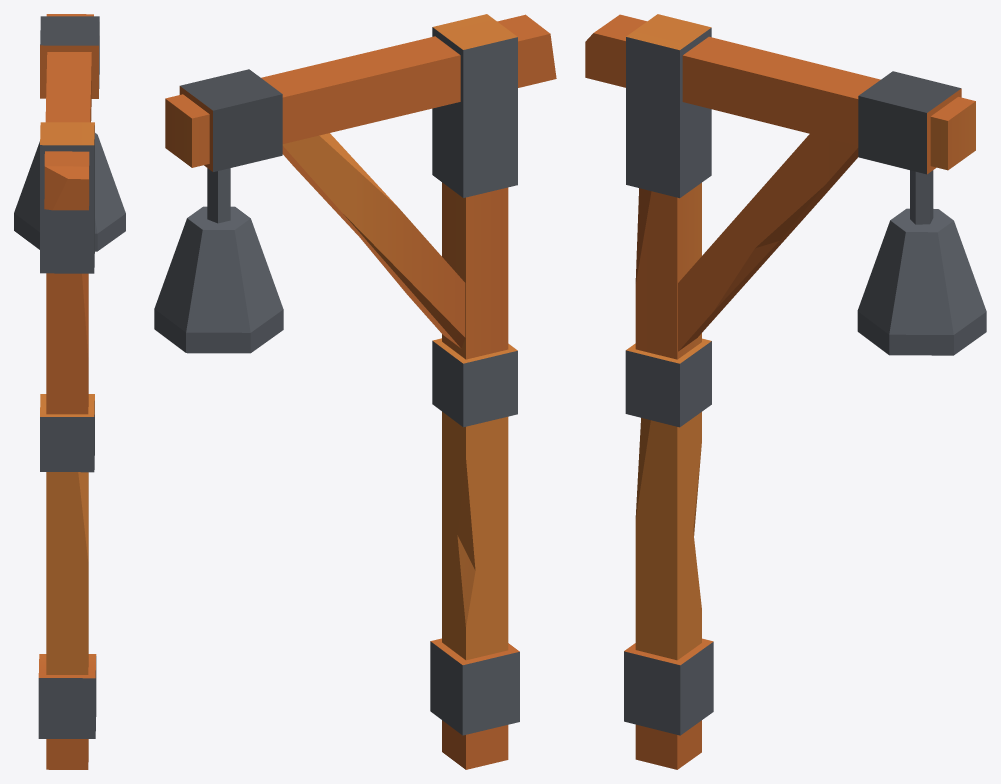
Rendered from lightroad.fbx.
The picture shows the model from 3 angles, left to right: view 1: azimuth 30°, elevation 25°; view 2: azimuth 150°, elevation 25°; view 3: azimuth 270°, elevation 25°; orthographic projection. The views are drawn at different scales.
Visible parts, largest first — view 1: polySurface532; view 2: polySurface532; view 3: polySurface532.
Boxes of the visible parts, x1,y1,x2,y2 form: polySurface532: (14, 14, 125, 769); polySurface532: (154, 14, 556, 769); polySurface532: (585, 14, 986, 769).
Size of the model in its own units: 207 by 616 by 309.
